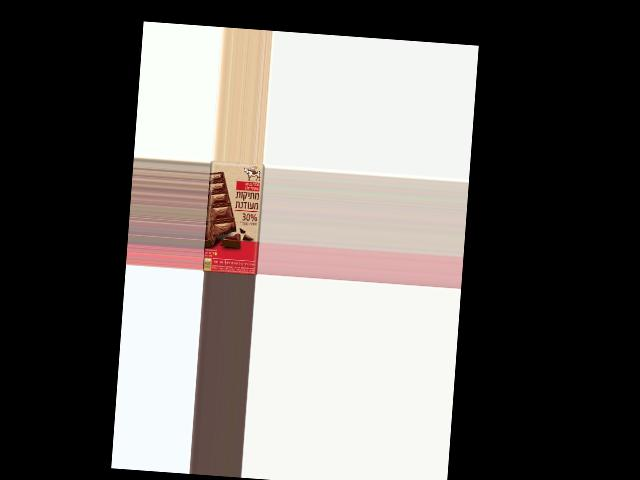chocolate: (203, 160, 265, 274)
